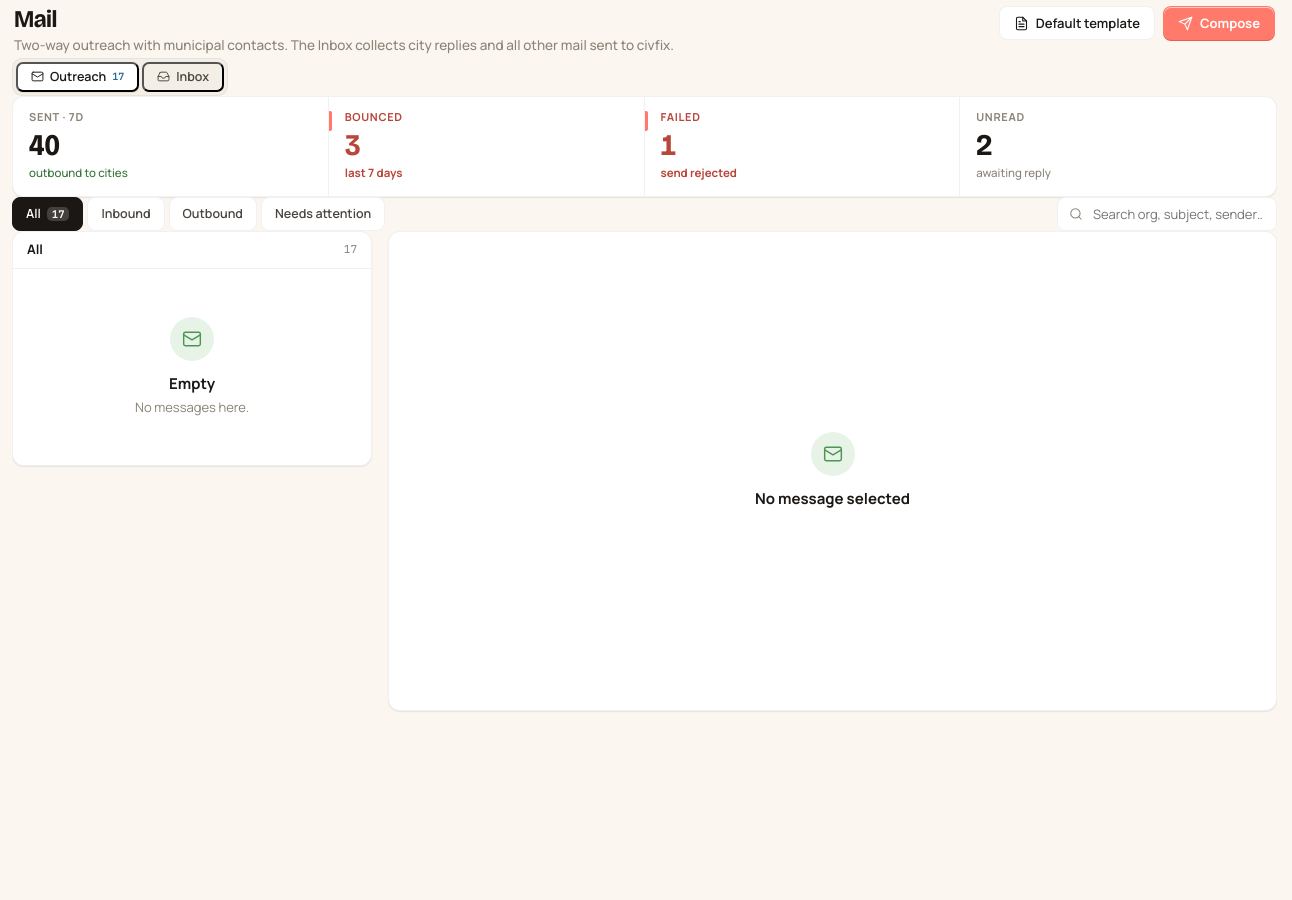
Test: MailPage inbox › opens a clicked email row in the inbound message reader
The image size is (1292, 900).
Click the radio button labelled "Inbox".
click(183, 77)  # box [142,62,224,92]
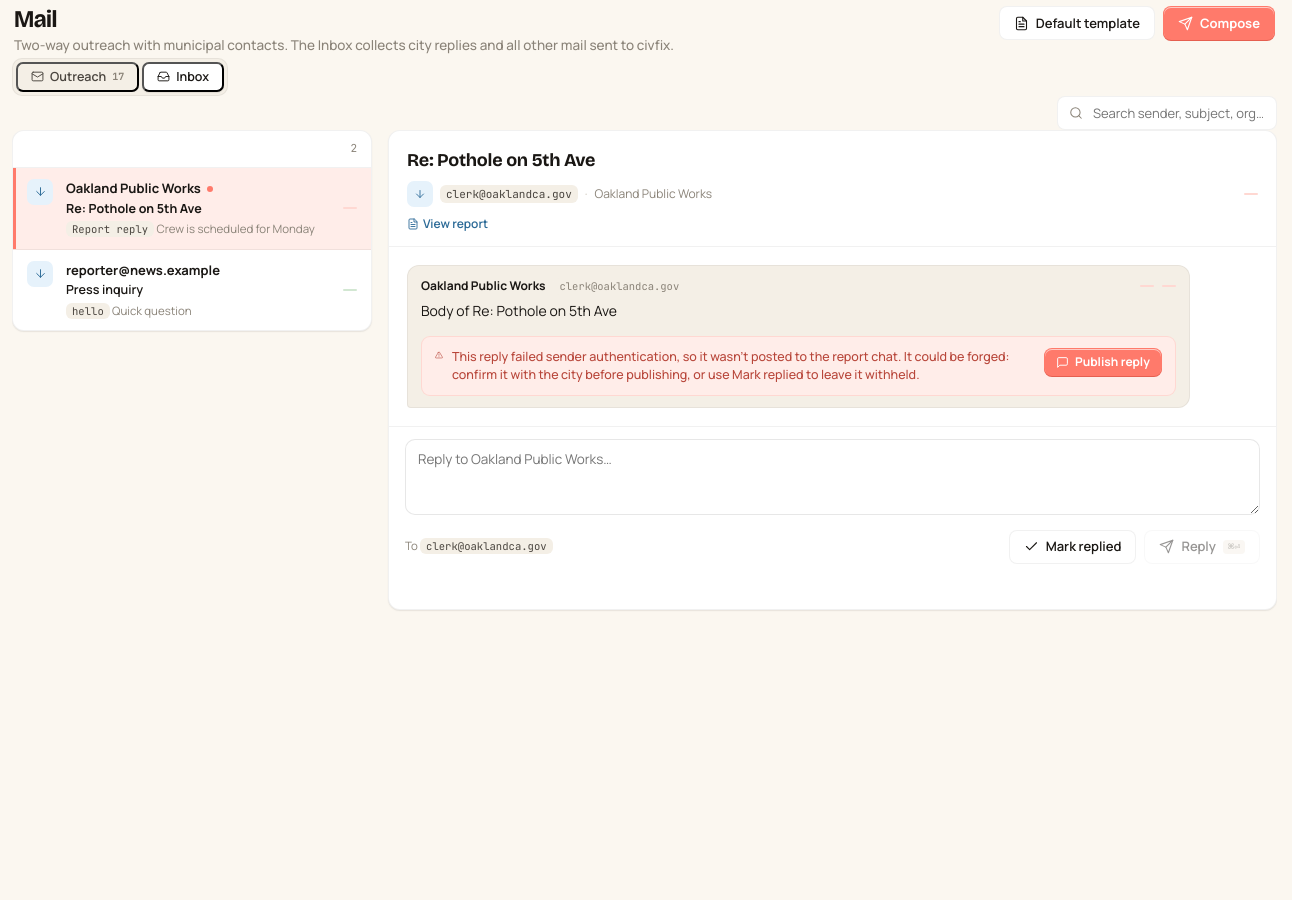
expect the text "Body of Re: Pothole on 5th Ave" is shown: met, box [421,301,617,320]
Click the text "Press inquiry".
click(104, 290)  # box [66,281,143,298]
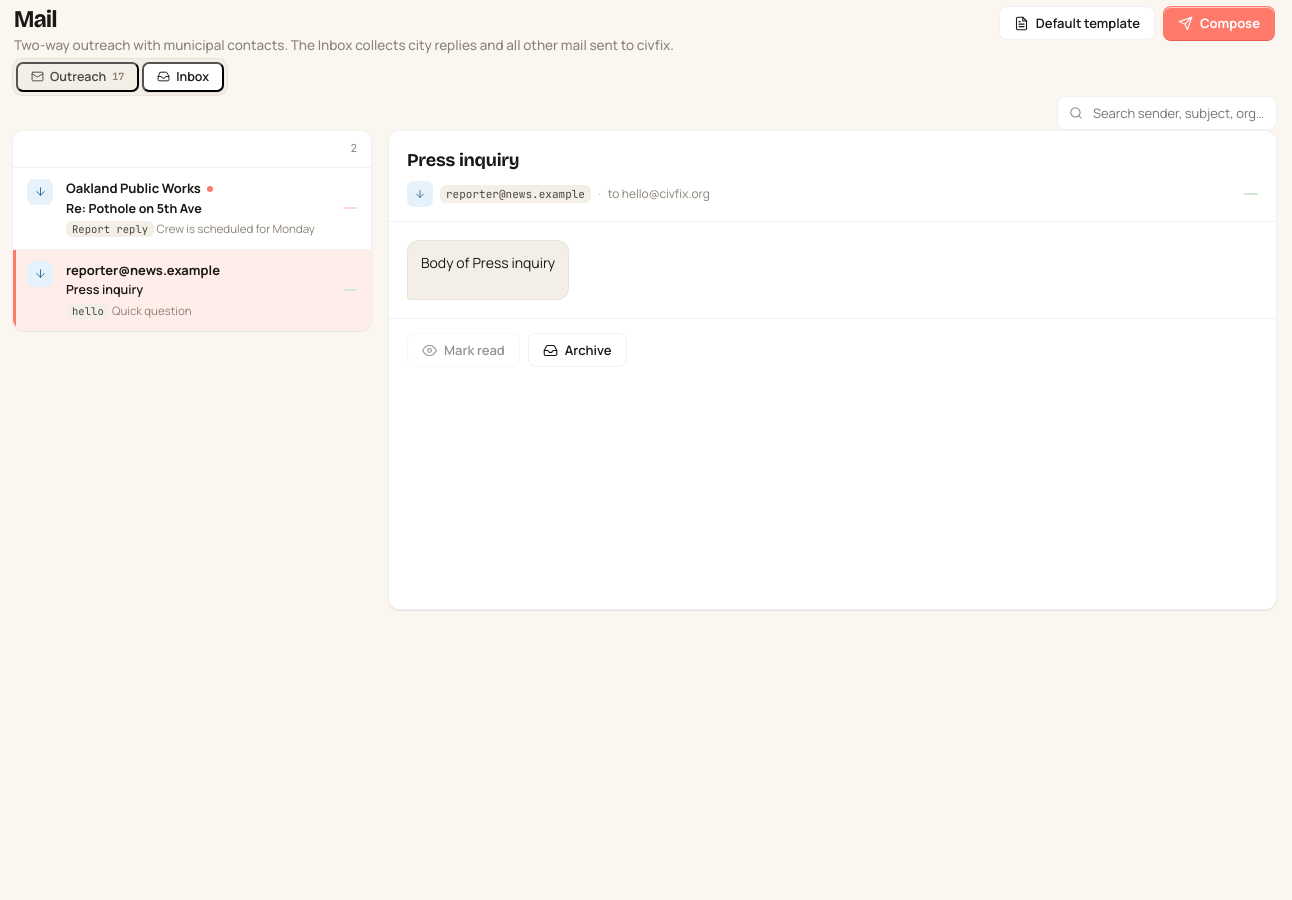
expect the text "Body of Press inquiry" is shown: met, box [421,252,555,274]
expect the text "to hello@civfix.org" is shown: met, box [608,185,710,203]
expect the button "Mark read" is disabled: met, box [407,333,520,367]
